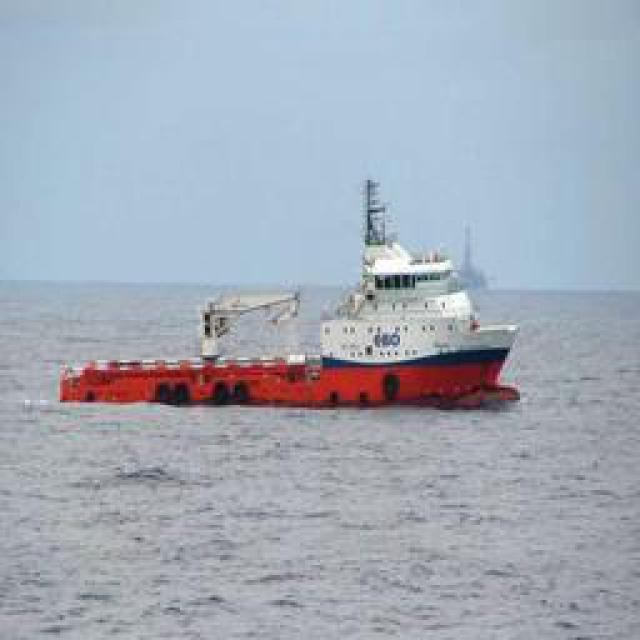Ship: (74, 184, 529, 417)
